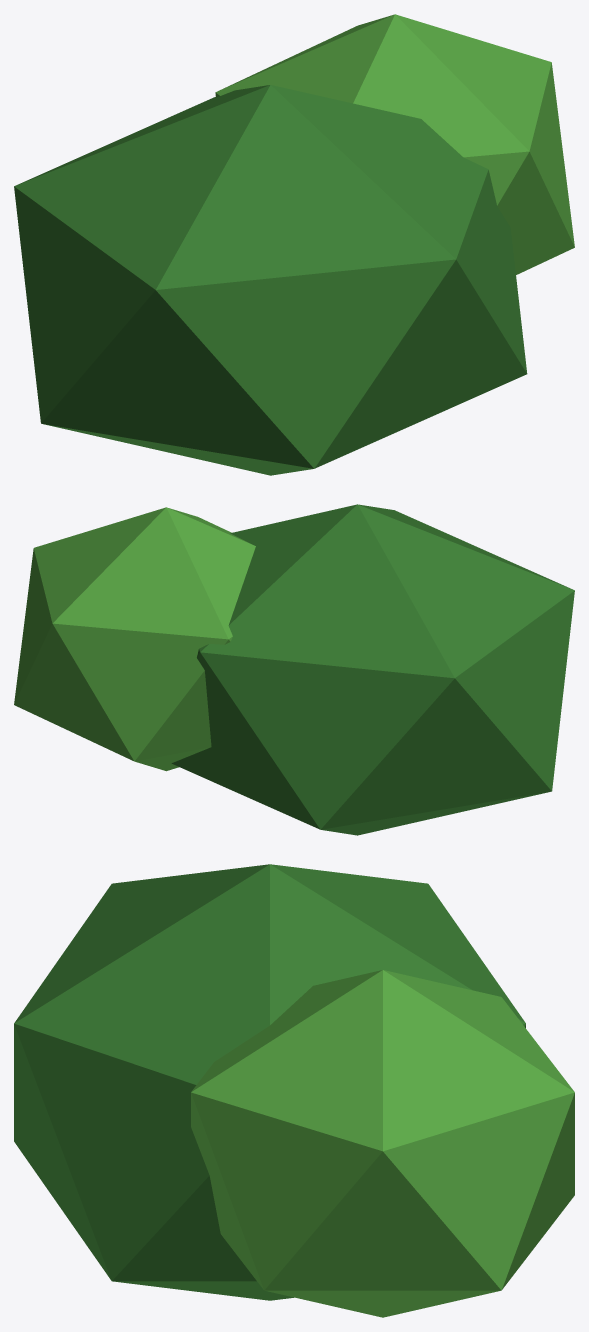
Rendered from bush.fbx.
The picture shows the model from 3 angles, top to bottom: view 1: azimuth 30°, elevation 25°; view 2: azimuth 150°, elevation 25°; view 3: azimuth 270°, elevation 25°; orthographic projection. The views are drawn at different scales.
Visible parts, largest first — view 1: bush; view 2: bush; view 3: bush.
Part boxes in pixels (box(x1,y1,x2,y2)): bush: box(14, 14, 574, 475); bush: box(14, 504, 574, 835); bush: box(14, 864, 574, 1317).
Bounding box in the file's own units: 0.1924 × 0.128 × 0.1491.
